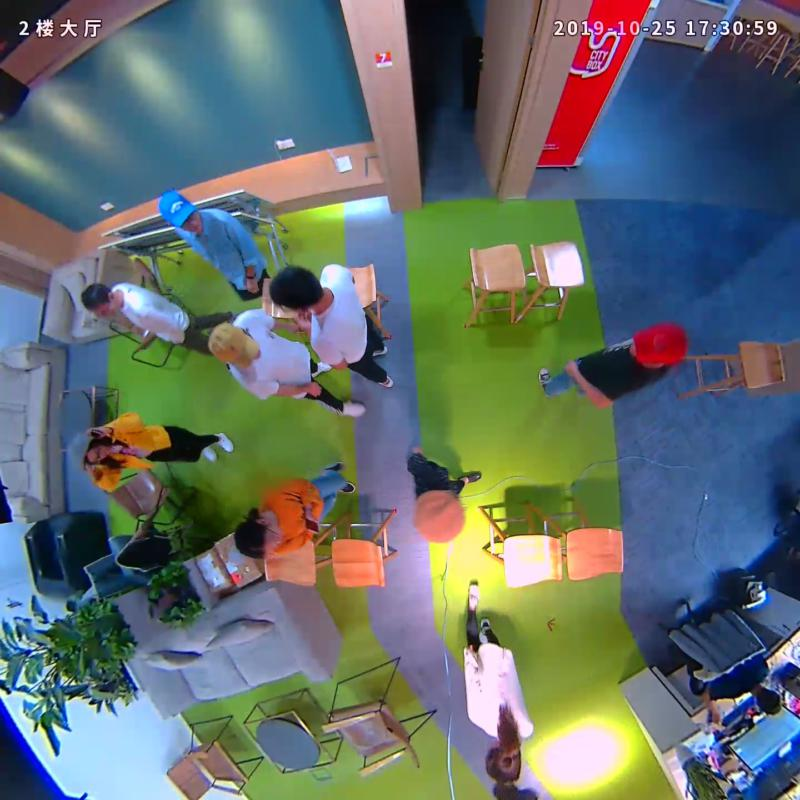head: (412, 489, 466, 543), (629, 323, 688, 368), (206, 321, 261, 369), (269, 265, 324, 311), (233, 517, 284, 560), (158, 189, 202, 232), (65, 431, 113, 467), (486, 740, 522, 783), (80, 283, 119, 317)
